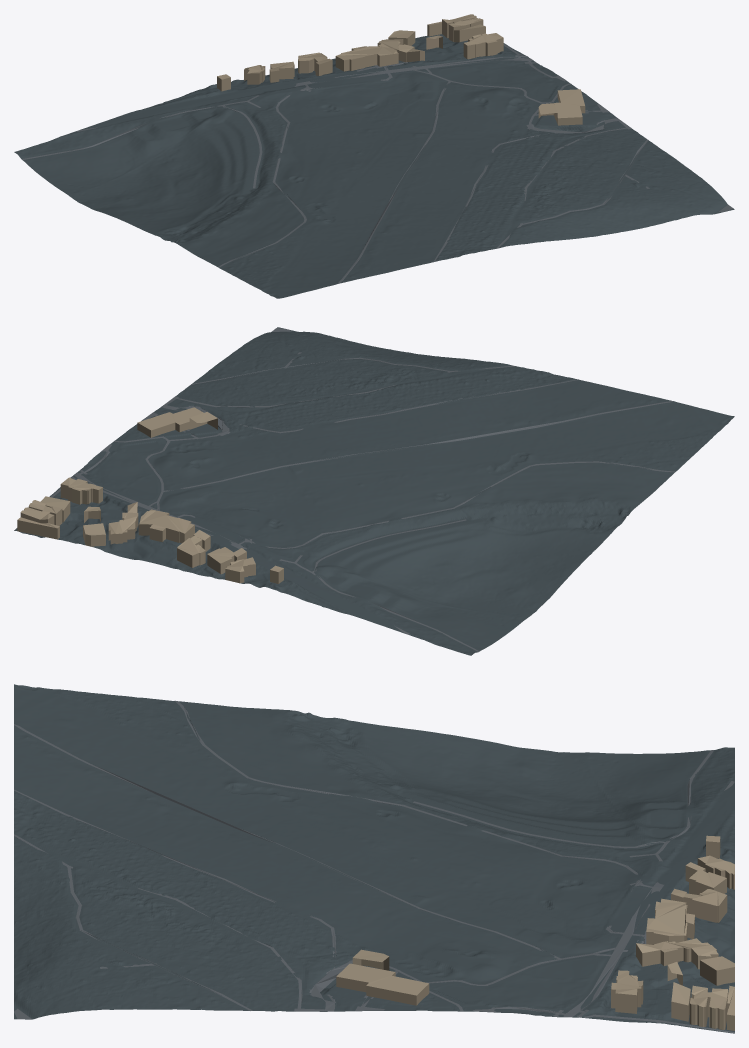
Rendered from epsg26910-1425-10892.lod0.glb.
3 views of the same model, one above another, from view 1: azimuth 30°, elevation 25°; view 2: azimuth 150°, elevation 25°; view 3: azimuth 270°, elevation 25° (orthographic). The views are drawn at different scales.
Visible parts, largest first — view 1: epsg26910-1425-10892-lod0; view 2: epsg26910-1425-10892-lod0; view 3: epsg26910-1425-10892-lod0.
Part boxes in pixels (x1,y1,x2,y2): epsg26910-1425-10892-lod0: (14, 14, 734, 298); epsg26910-1425-10892-lod0: (14, 327, 734, 655); epsg26910-1425-10892-lod0: (14, 684, 734, 1033).
Size of the model in its own units: 384 by 41.18 by 384.
